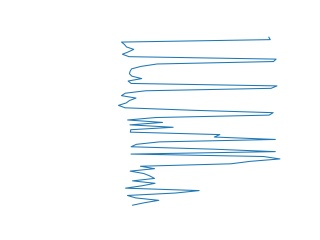crevasseRiverChannelBar: (119, 162, 281, 206)
majorRiverBedLagDeposit: (121, 120, 284, 164)
majorRiverChannelBar: (115, 34, 281, 117)
